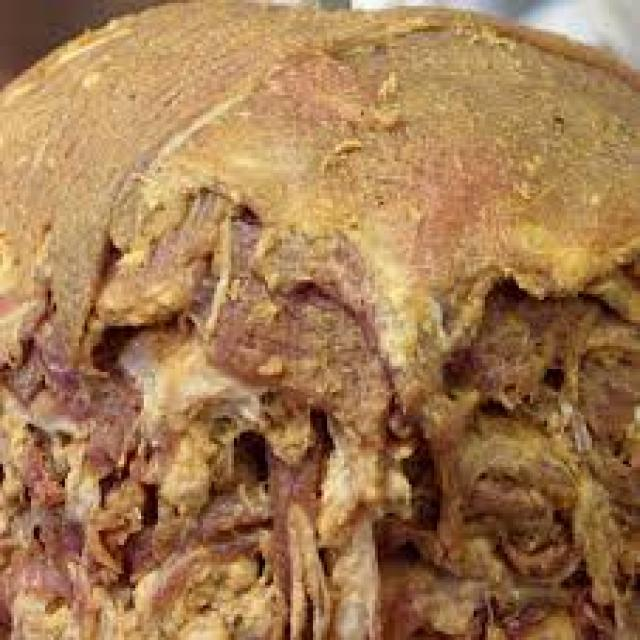food_waste: (0, 0, 637, 637)
